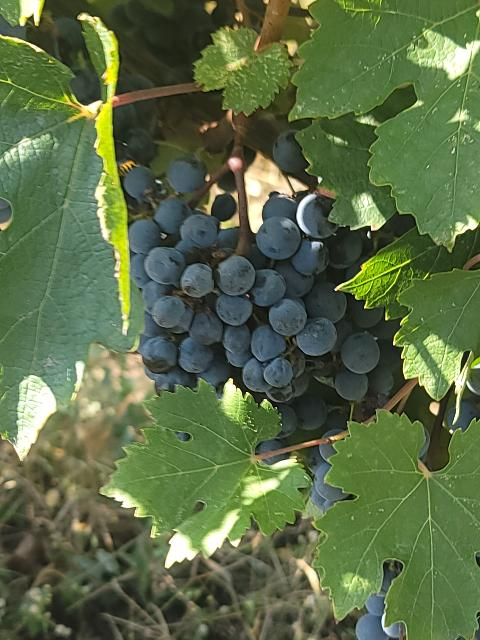grapes: (129, 192, 384, 405)
